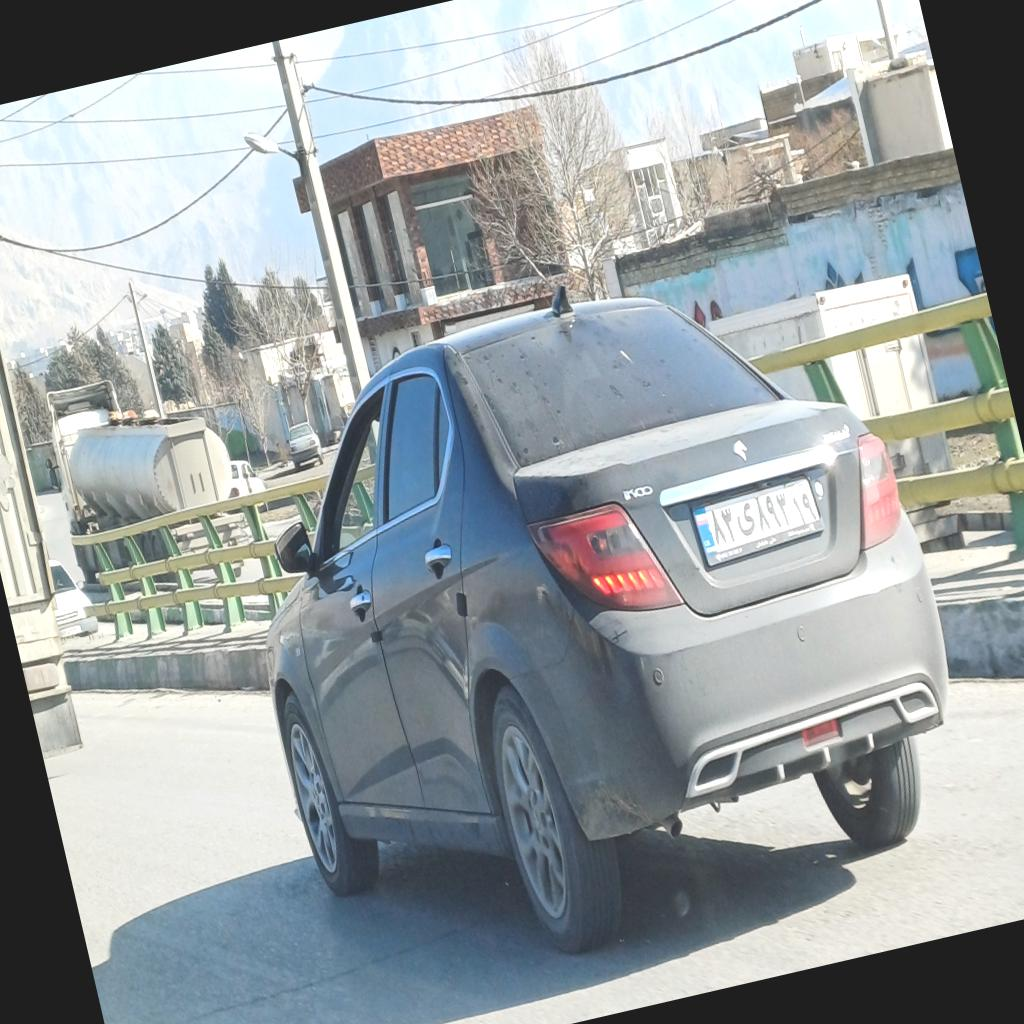Plates: (688, 475, 823, 558)
